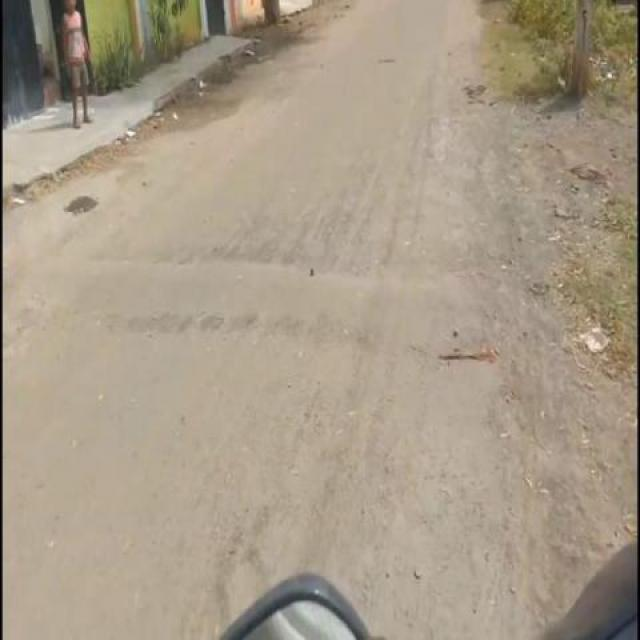Unmarked Bump: (26, 255, 482, 338)
